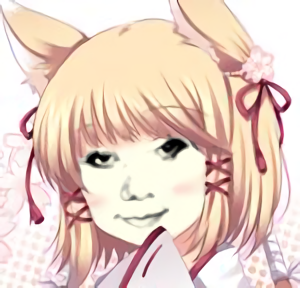dragon: (82, 139, 193, 229)
